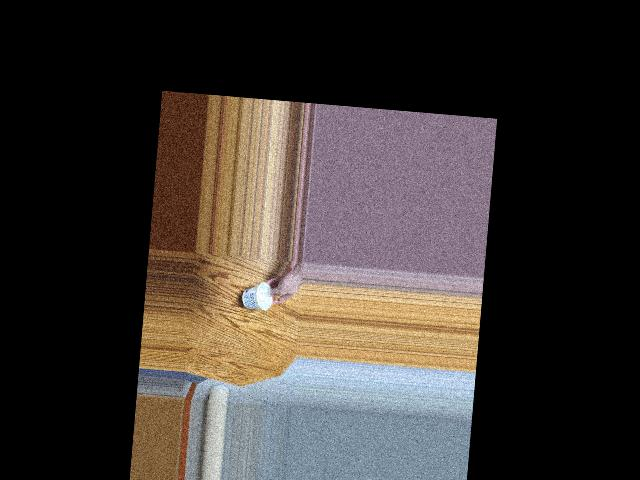cotage: (240, 281, 272, 314)
